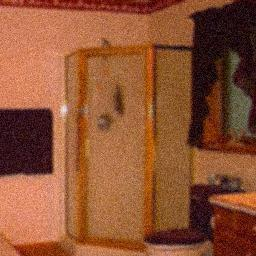Ducha: (62, 36, 186, 253)
Sanitario: (146, 179, 222, 252)
